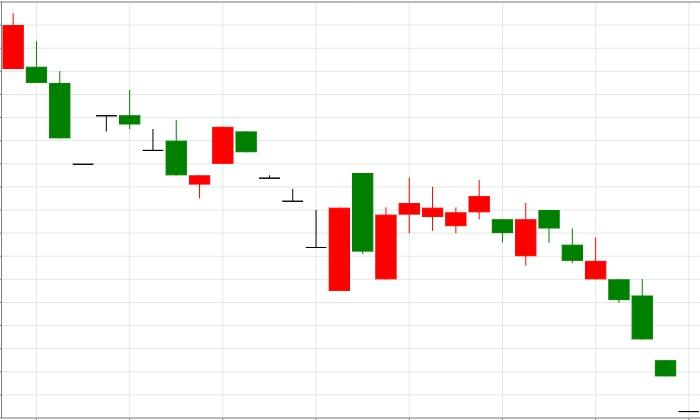evening_star_fall: (97, 88, 234, 192)
